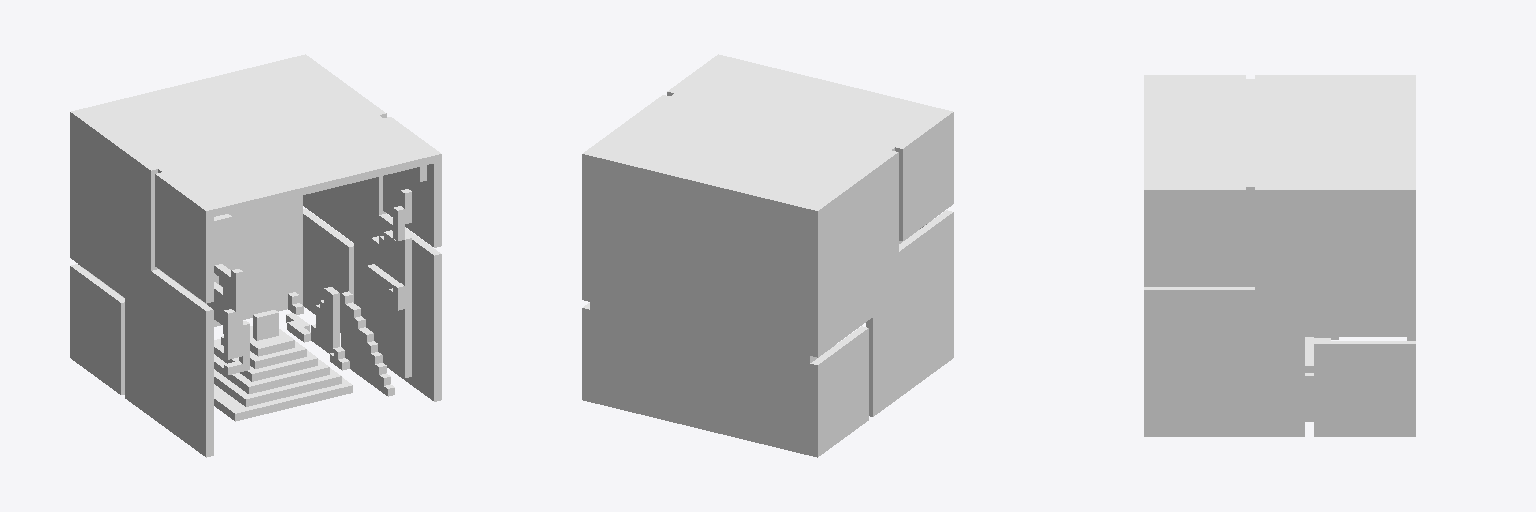
Rendered from Eryk.obj.
3 views of the same model, side by side, from view 1: azimuth 30°, elevation 25°; view 2: azimuth 150°, elevation 25°; view 3: azimuth 270°, elevation 25° (orthographic).
Visible parts, largest first — view 1: object 1; view 2: object 1; view 3: object 1.
Boxes of the visible parts, x1,y1,x2,y2 form: object 1: [70, 54, 441, 457]; object 1: [582, 54, 953, 457]; object 1: [1144, 75, 1415, 436].
Size of the model in its own units: 3.2 by 3.2 by 3.2.